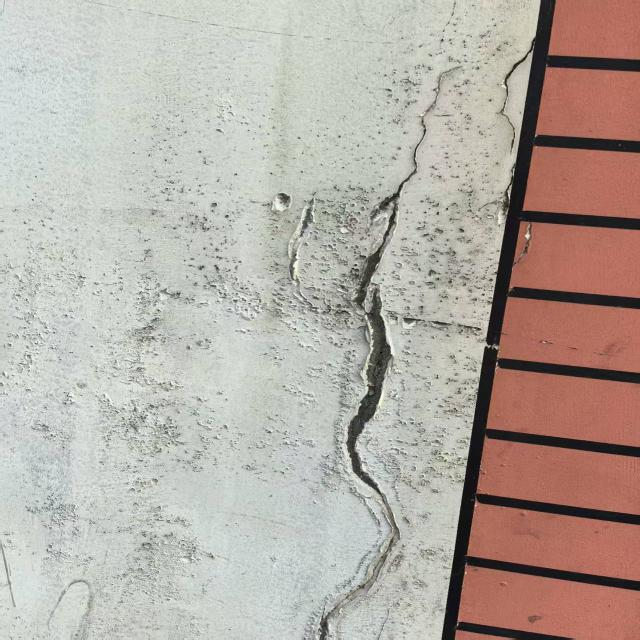crack: (306, 56, 478, 636), (488, 23, 549, 289), (273, 180, 323, 323)
